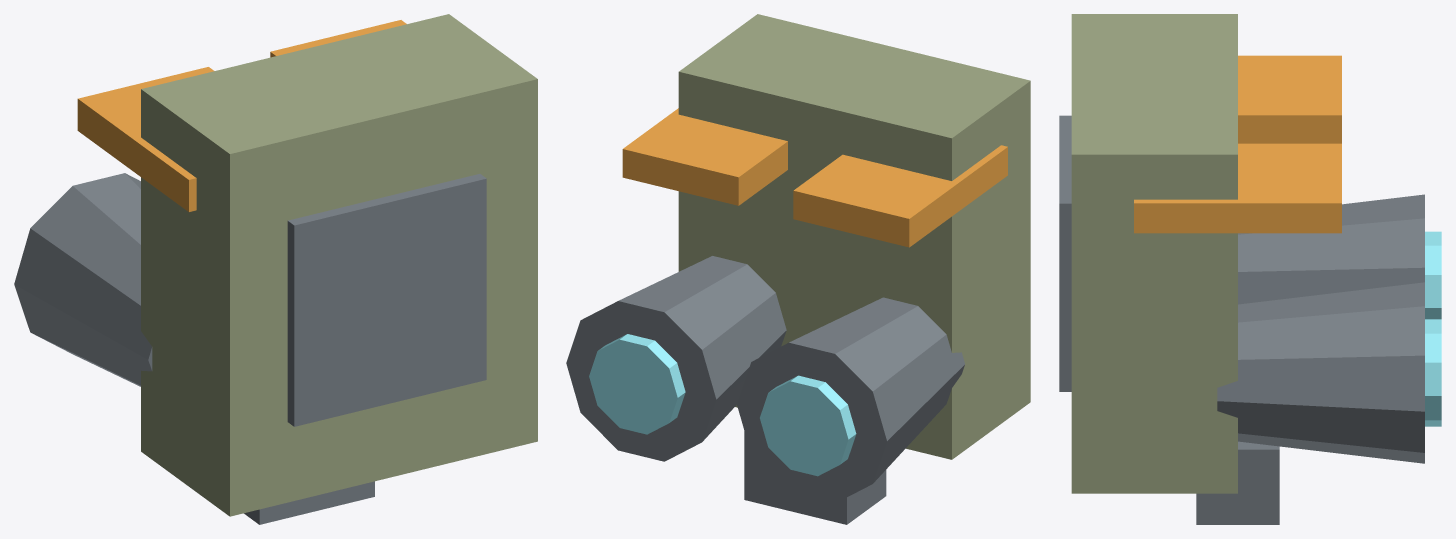
File: mod-line-mech-back-26889.glb
3 renders of one model, left to right at view 1: azimuth 30°, elevation 25°; view 2: azimuth 150°, elevation 25°; view 3: azimuth 270°, elevation 25°, orthographic. The views are drawn at different scales.
Bounding box in the file's own units: 3.96 × 4.64 × 3.88.
